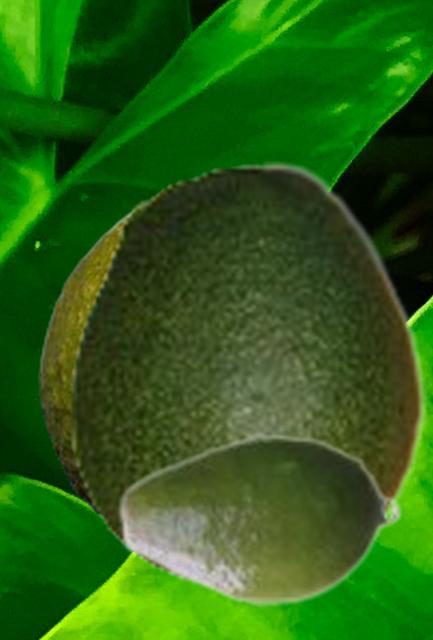avocado: (68, 161, 425, 581), (115, 430, 403, 608), (38, 202, 137, 520)
